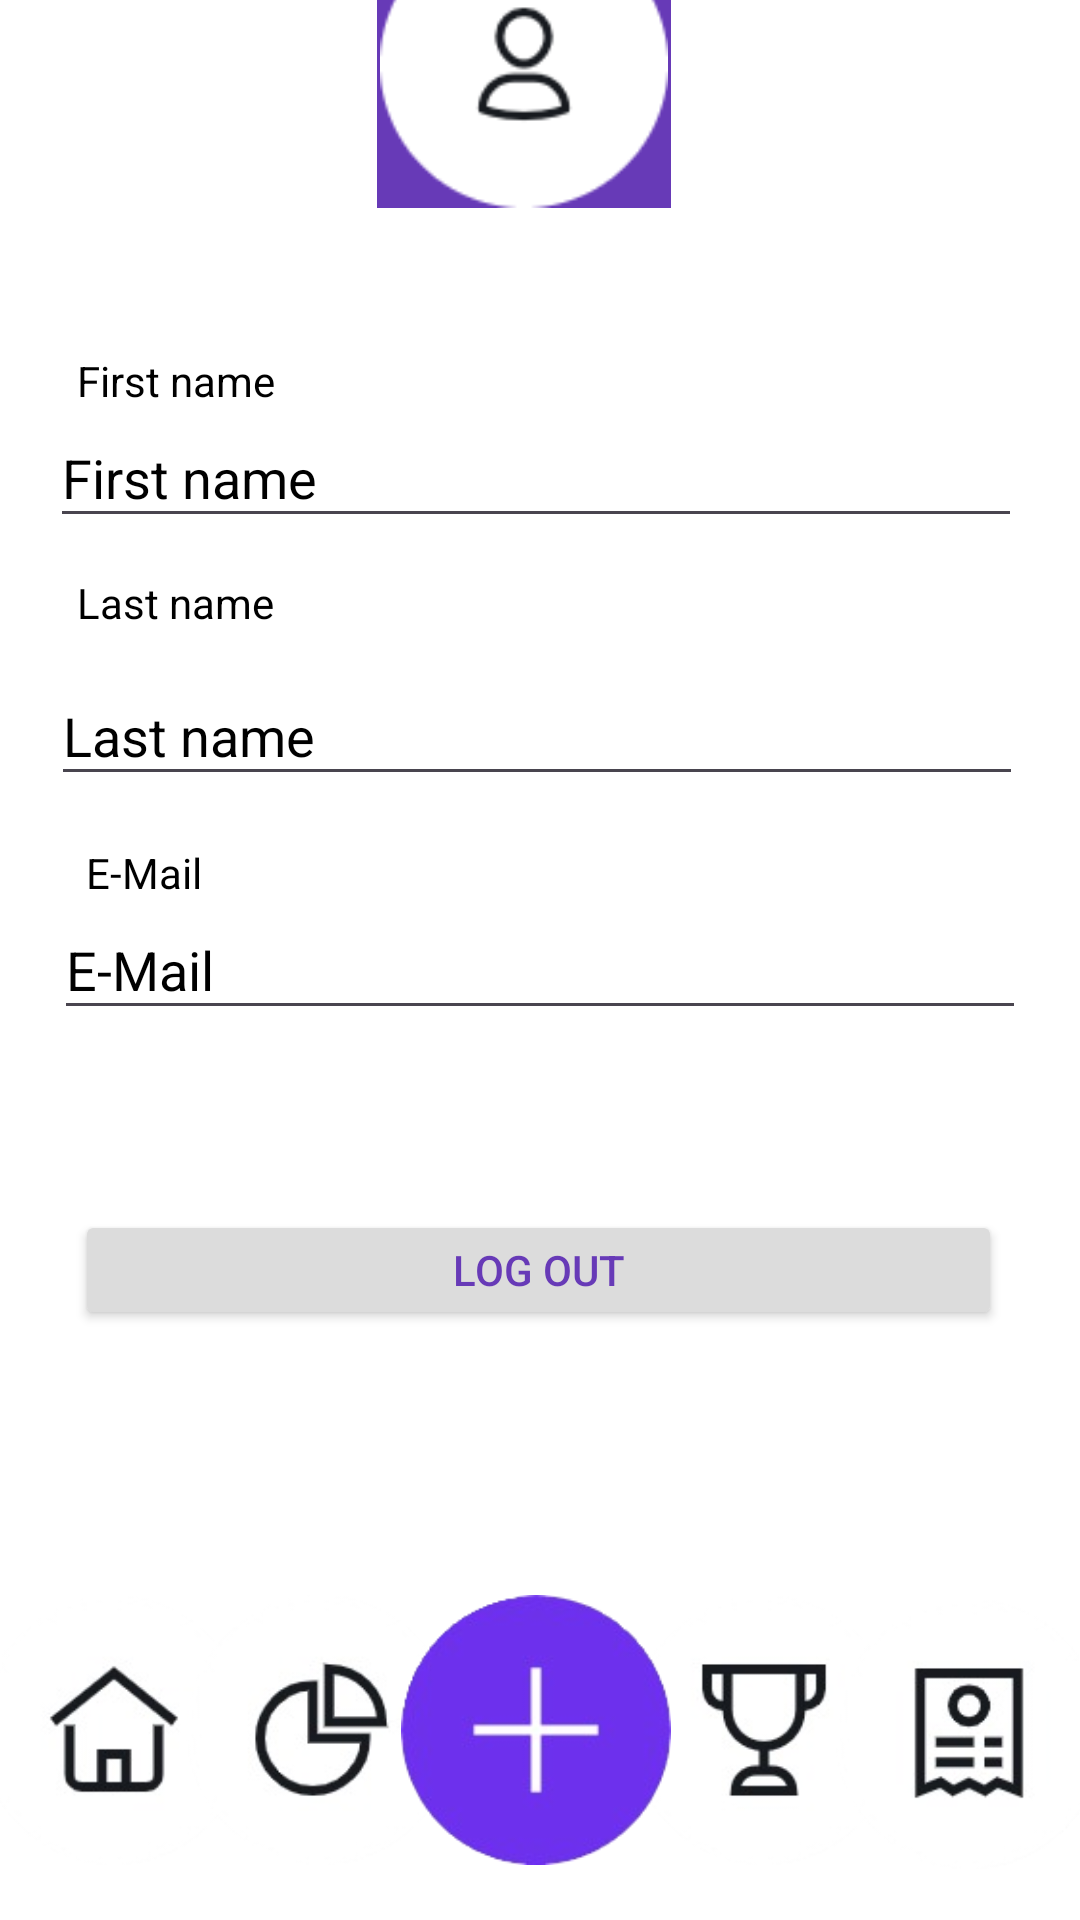

Where icons sit on this 1080×1920 app screen, as (x1, y1, x2, y2):
add: (401, 1595, 671, 1865)
bill: (914, 1668, 1024, 1798)
chal: (701, 1664, 827, 1796)
home: (50, 1666, 178, 1793)
stat: (255, 1623, 456, 1839)
